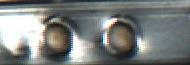joints: (100, 14, 144, 61), (39, 13, 80, 62)
